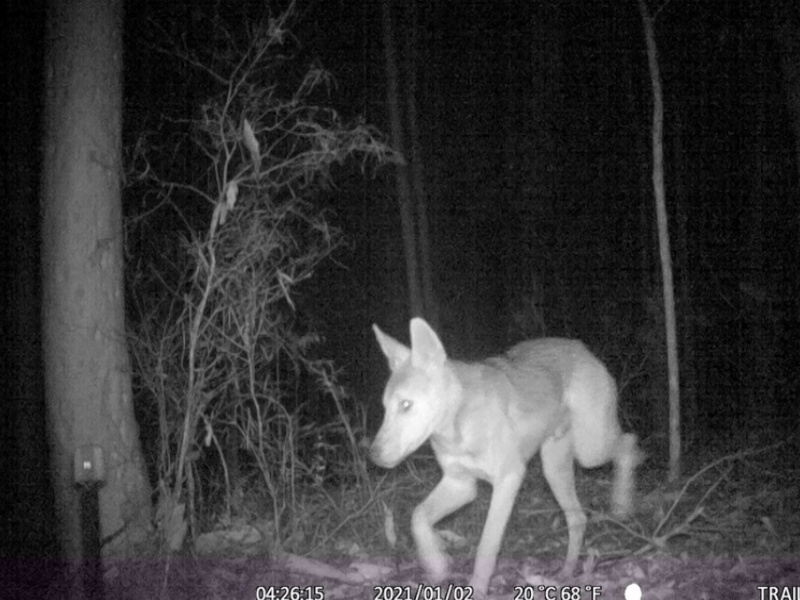dog: (358, 313, 643, 577)
